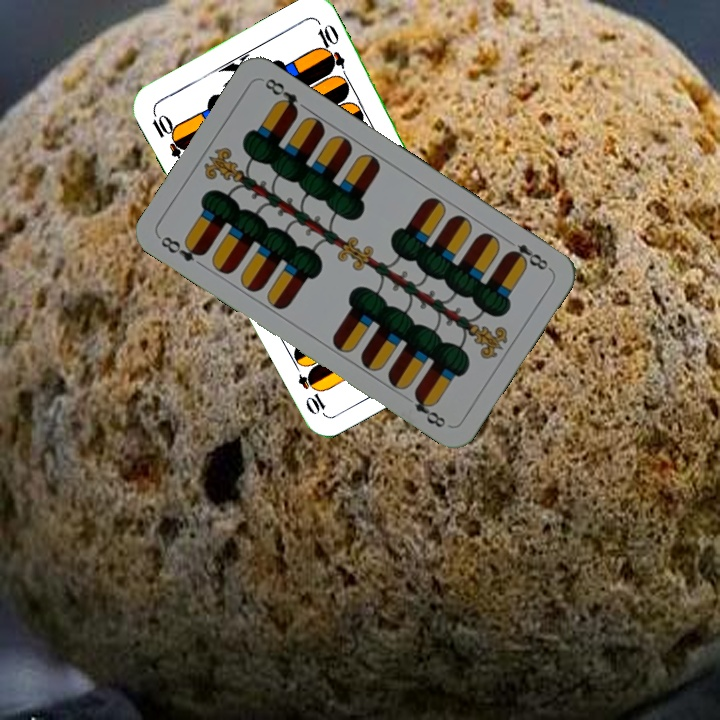E10: (147, 107, 191, 162)
E8: (156, 232, 209, 265), (503, 239, 553, 273)
